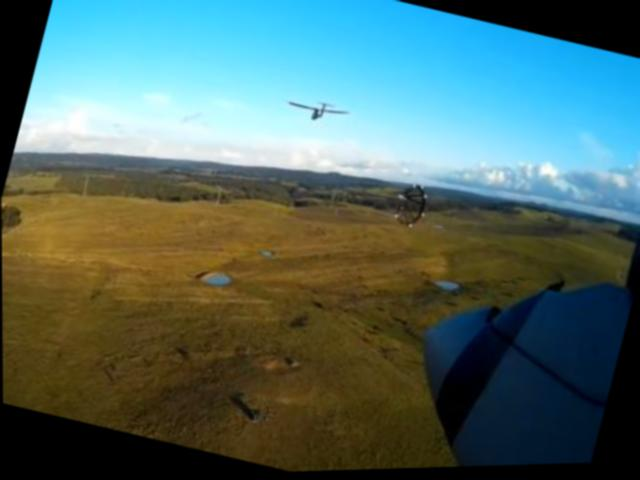uav: (282, 90, 352, 133)
